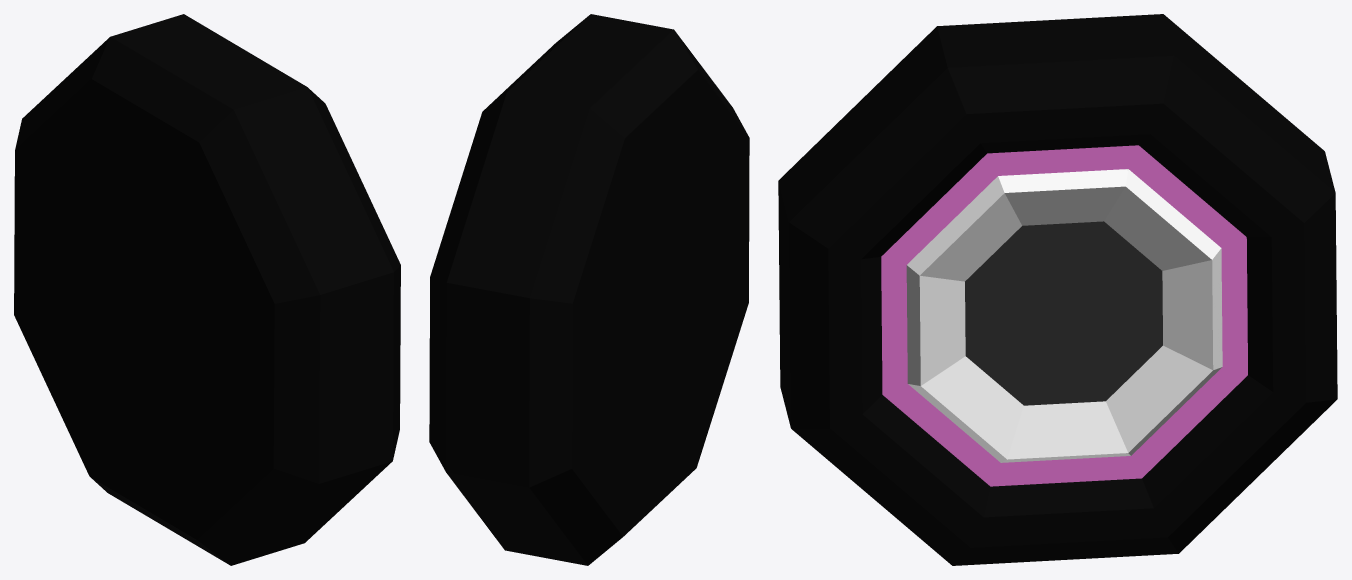
Rendered from Tire.fbx.
The picture shows the model from 3 angles, left to right: view 1: azimuth 30°, elevation 25°; view 2: azimuth 150°, elevation 25°; view 3: azimuth 270°, elevation 25°; orthographic projection. The views are drawn at different scales.
Parts seen in each view (by area): view 1: RightTire; view 2: RightTire; view 3: RightTire.
Boxes of the visible parts, x1=… form: RightTire: x1=14, y1=14, x2=400, y2=565; RightTire: x1=429, y1=14, x2=749, y2=565; RightTire: x1=778, y1=14, x2=1337, y2=565.
Size of the model in its own units: 29.64 by 73.97 by 74.97.
